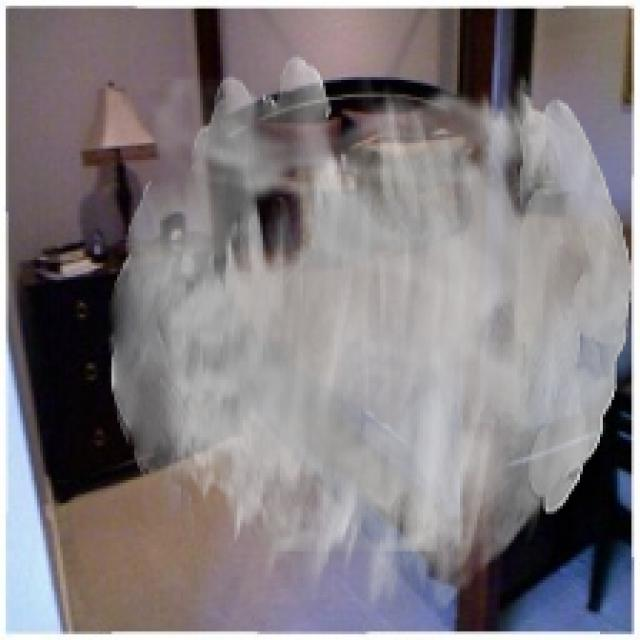smoke: (109, 54, 632, 617)
